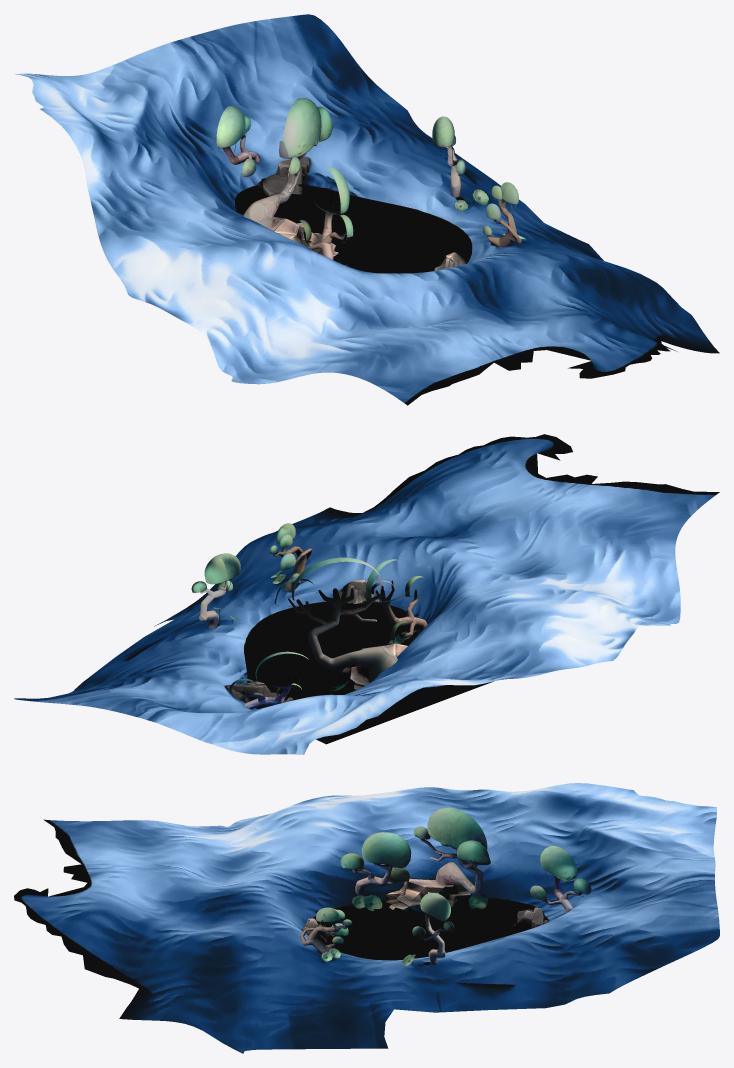
File: scena_04.glb
3 views of the same model, one above another, from view 1: azimuth 30°, elevation 25°; view 2: azimuth 150°, elevation 25°; view 3: azimuth 270°, elevation 25° (orthographic). The views are drawn at different scales.
Visible parts, largest first — view 1: duna oasi, lake_plane, tree_03_crown, tree_04_crown, tree_03_trunk, rock_03, rock_02, tree_02_crown, tree_02_trunk, tree_05_crown, tree_01_crown, tree_01_trunk; view 2: duna oasi, lake_plane, tree_03_trunk, tree_05_crown, tree_02_trunk, rock_02, tree_01_crown, tree_03_crown, rock_03, tree_04_trunk, tree_02_crown, tree_05_trunk (+2 smaller); view 3: duna oasi, lake_plane, tree_03_crown, tree_02_crown, rock_02, tree_04_crown, tree_03_trunk, tree_05_crown, tree_01_crown, tree_01_trunk, tree_02_trunk, rock_03 (+1 smaller).
Boxes of the visible parts, bbox=[...] form: duna oasi: bbox=[15, 14, 719, 405]; lake_plane: bbox=[235, 185, 471, 273]; tree_03_crown: bbox=[279, 98, 333, 174]; tree_04_crown: bbox=[216, 105, 256, 177]; tree_03_trunk: bbox=[243, 153, 306, 228]; rock_03: bbox=[257, 157, 309, 196]; rock_02: bbox=[270, 217, 338, 256]; tree_02_crown: bbox=[299, 166, 353, 240]; tree_02_trunk: bbox=[303, 191, 346, 259]; tree_05_crown: bbox=[432, 116, 465, 174]; tree_01_crown: bbox=[483, 182, 518, 235]; tree_01_trunk: bbox=[487, 199, 521, 246]; duna oasi: bbox=[14, 434, 719, 754]; lake_plane: bbox=[244, 602, 493, 744]; tree_03_trunk: bbox=[288, 586, 397, 682]; tree_05_crown: bbox=[191, 553, 240, 592]; tree_02_trunk: bbox=[375, 580, 427, 638]; rock_02: bbox=[338, 643, 407, 691]; tree_01_crown: bbox=[269, 523, 299, 583]; tree_03_crown: bbox=[274, 557, 393, 606]; rock_03: bbox=[225, 681, 293, 708]; tree_04_trunk: bbox=[242, 674, 297, 709]; tree_02_crown: bbox=[365, 559, 423, 640]; tree_05_trunk: bbox=[198, 581, 227, 628]; duna oasi: bbox=[14, 783, 719, 1053]; lake_plane: bbox=[313, 898, 544, 960]; tree_03_crown: bbox=[413, 807, 490, 865]; tree_02_crown: bbox=[340, 832, 411, 881]; rock_02: bbox=[386, 878, 479, 913]; tree_04_crown: bbox=[530, 846, 591, 900]; tree_03_trunk: bbox=[420, 838, 483, 895]; tree_05_crown: bbox=[412, 893, 454, 937]; tree_01_crown: bbox=[316, 907, 352, 943]; tree_01_trunk: bbox=[300, 922, 348, 953]; tree_02_trunk: bbox=[352, 863, 397, 895]; rock_03: bbox=[512, 907, 548, 930].
Bounding box in the file's own units: 174 × 61.23 × 273.
Materials: 9 (8 with a texture image).
